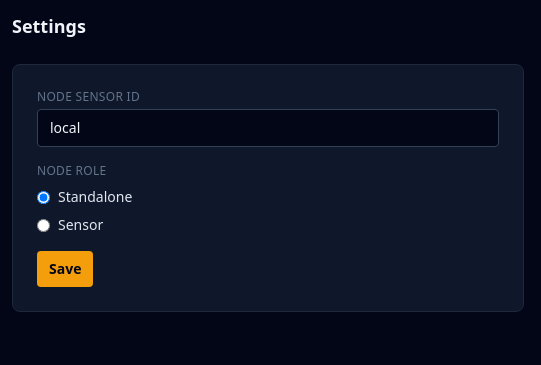
Test: rejects a node id with a space
The image size is (541, 365).
Replace the text in the field labelled "Node sensor id" with "bad id" at x=268, y=128, box x1=37 y1=109 x2=499 y2=147
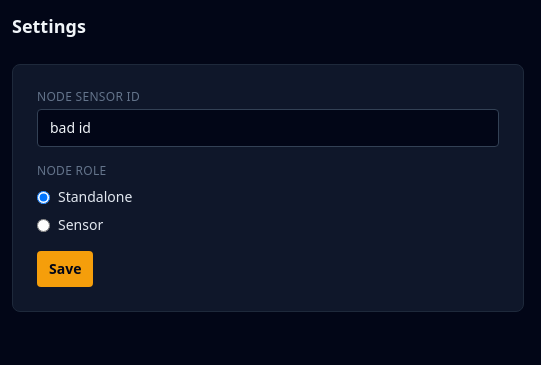
Click the button "Save" at x=65, y=269, box x1=37 y1=251 x2=93 y2=287
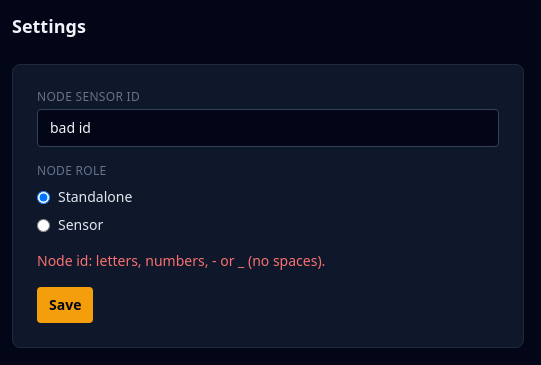
Expected: the message "Node id: letters, numbers, - or _ (no spaces)." is shown, x1=37 y1=251 x2=325 y2=270
